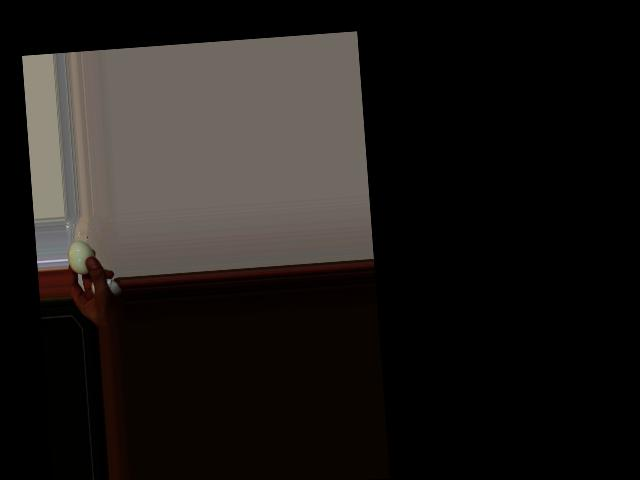egg: (66, 240, 96, 275)
